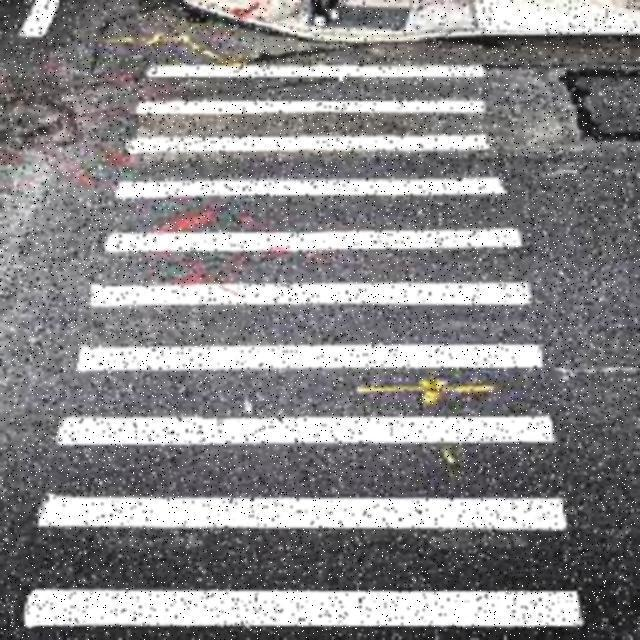Pedestrian crosswalk: (3, 48, 591, 639)
